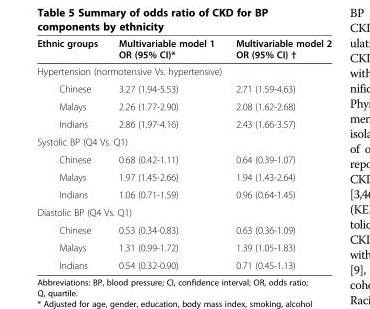table: (36, 37, 331, 270)
table column: (107, 37, 224, 270), (224, 37, 331, 270), (36, 37, 107, 270)
table column header: (36, 37, 331, 62)
table projected row header: (36, 132, 331, 150), (36, 62, 331, 79), (36, 203, 331, 220)
table row: (36, 37, 331, 62), (36, 79, 331, 97), (36, 114, 331, 132), (36, 132, 331, 150), (36, 167, 331, 185), (36, 185, 331, 203), (36, 220, 331, 238), (36, 238, 331, 256), (36, 62, 331, 79), (36, 97, 331, 114), (36, 150, 331, 167), (36, 203, 331, 220), (36, 256, 331, 270)
